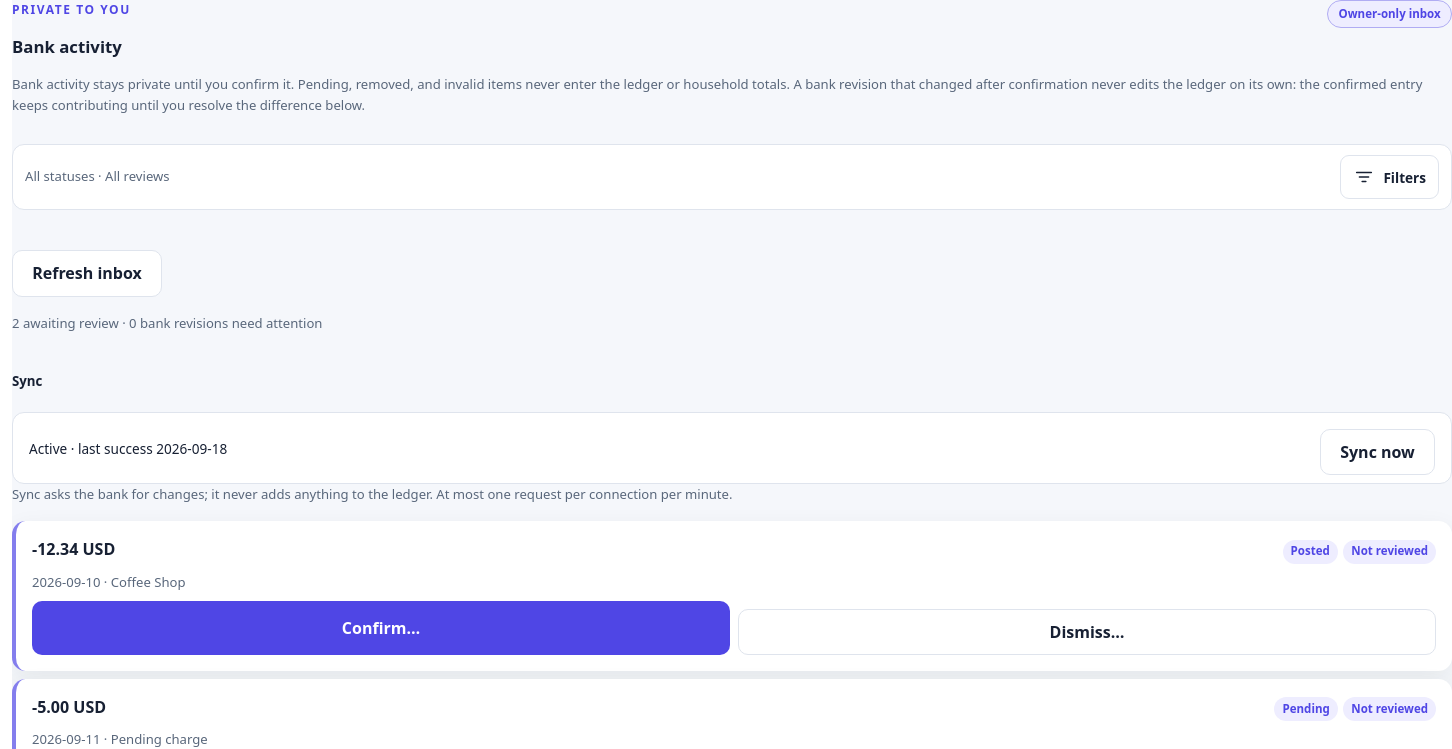
Test: BankActivitySection › confirms a posted item with an idempotent exact body
Click the button with aria-label "Confirm bank activity". click: (381, 628)
box: [32, 600, 730, 655]
(page scrolled)
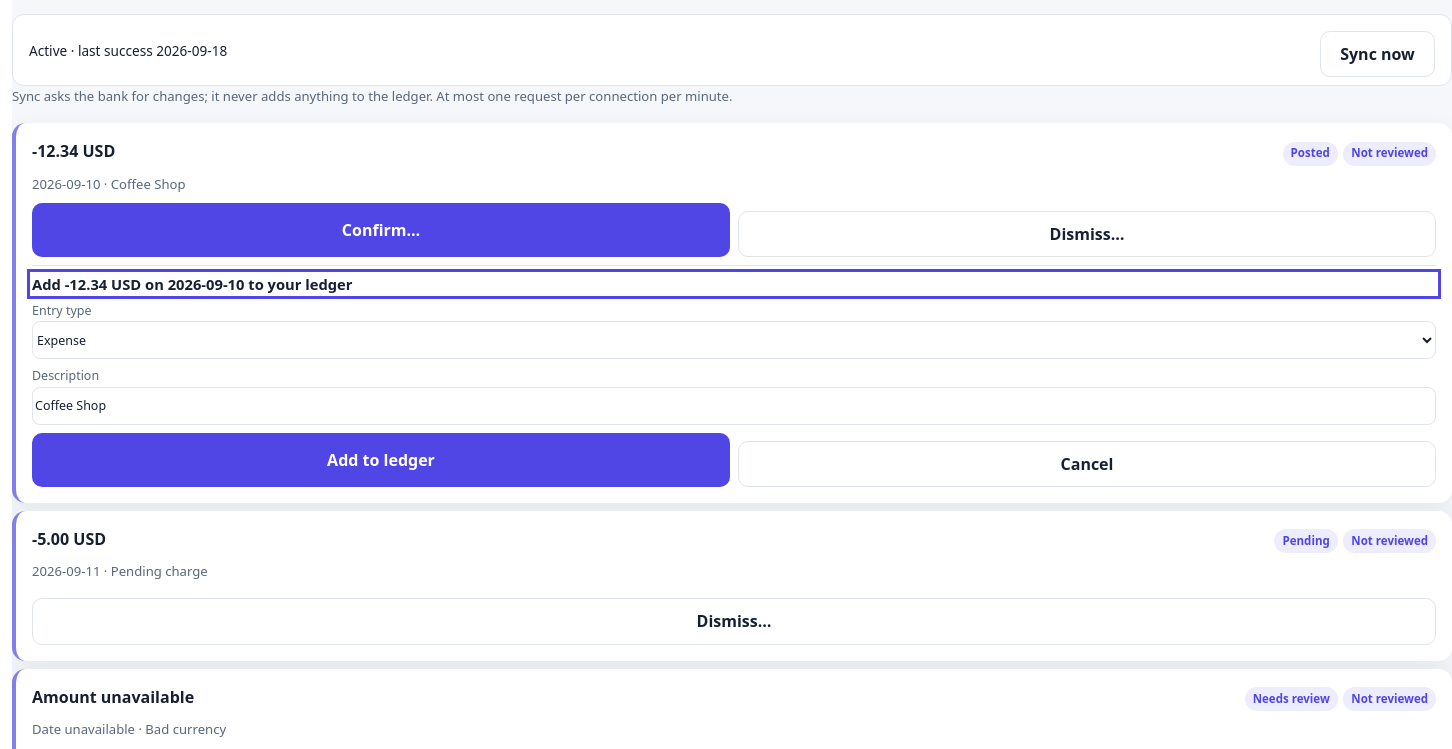
Type "Coffee Shop edited" into the field labelled "Description". click: (734, 406)
box: [32, 387, 1436, 425]
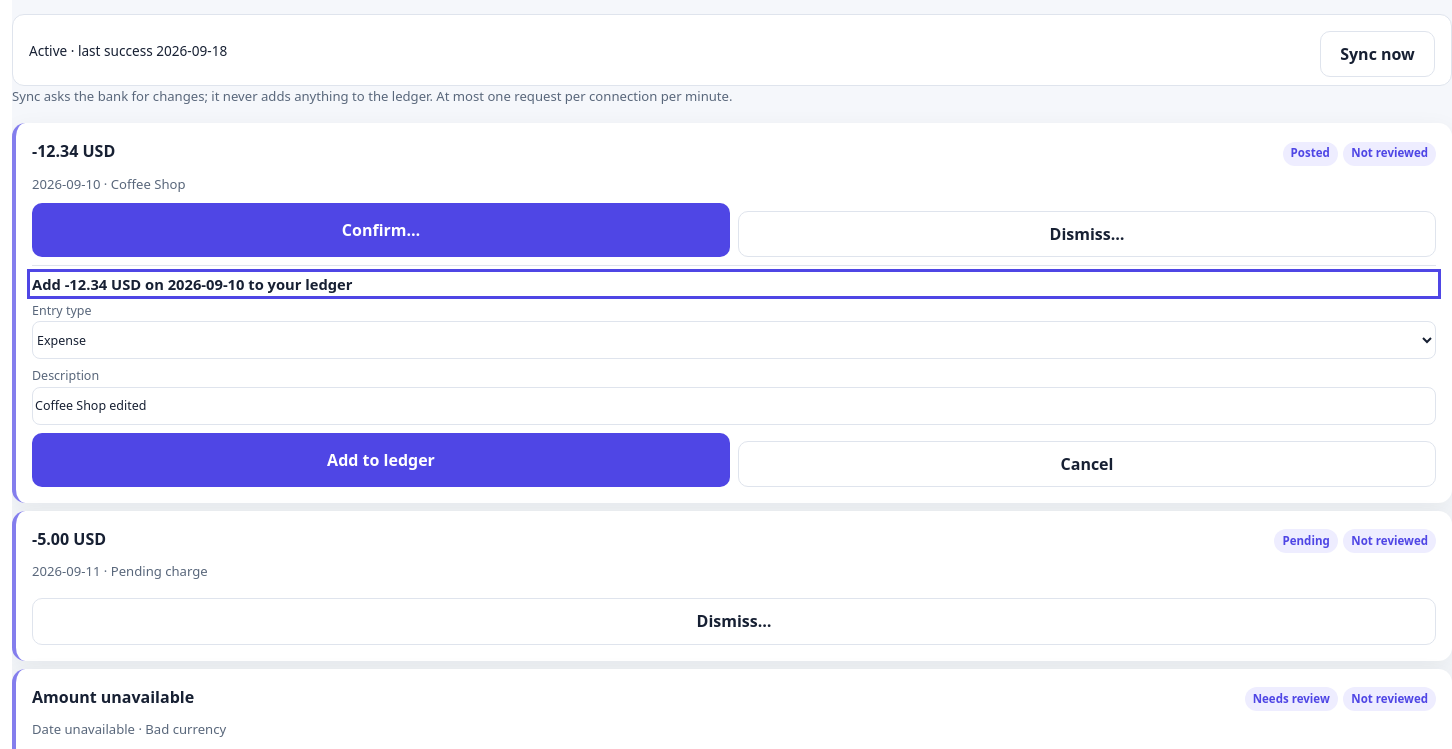
Click the button "Add to ledger". click: (381, 460)
box: [32, 433, 730, 487]
(page scrolled)
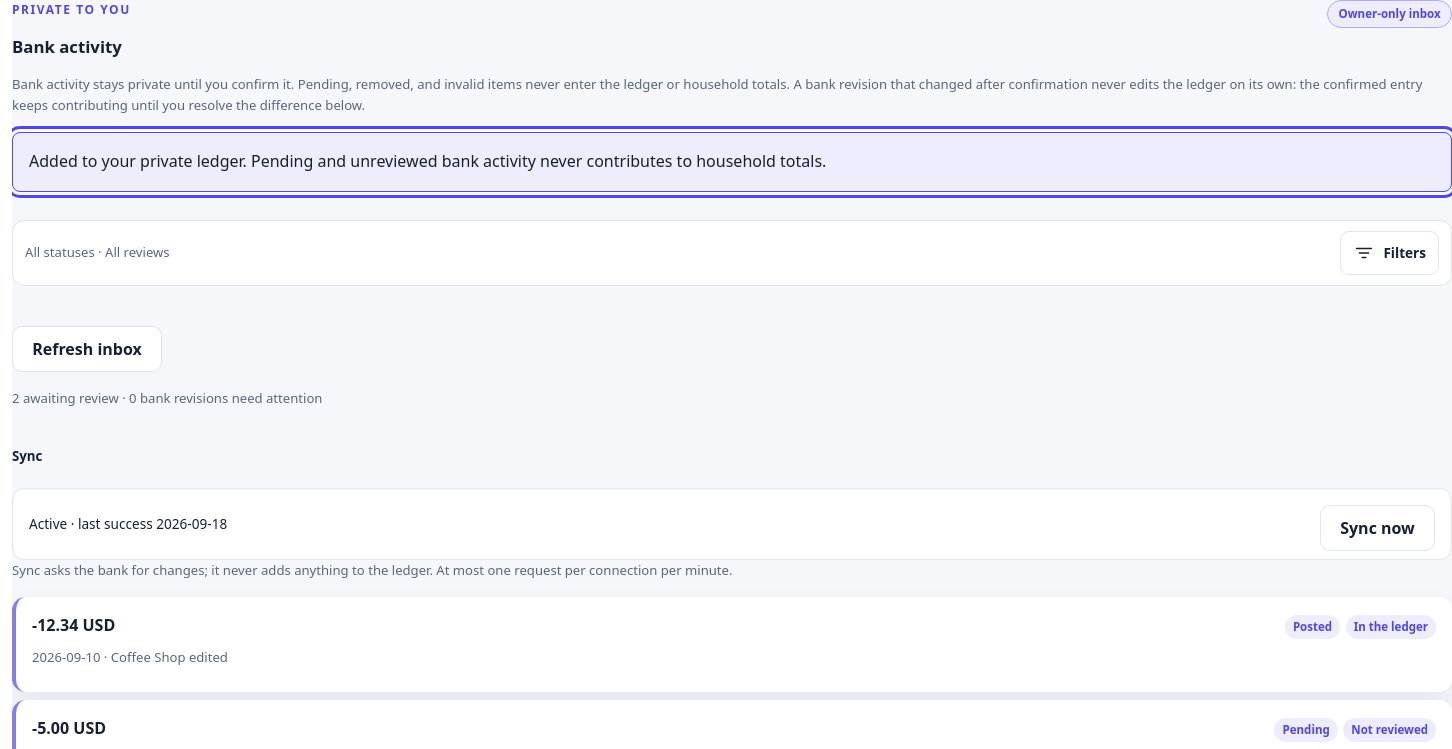
Check: the text "Added to your private ledger" is shown, box [29, 150, 826, 172]
Check: the list item that starts with "-12.34 USD" shows "In the ledger", box [1354, 619, 1428, 634]
